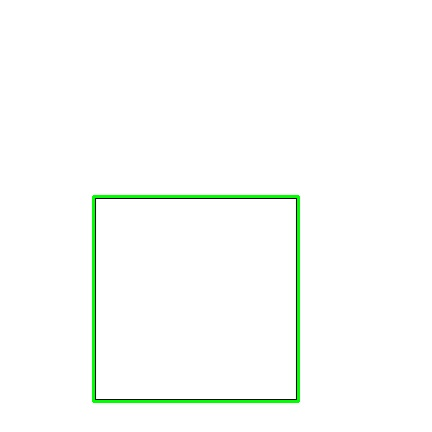line_segment: (92, 195, 300, 403)
